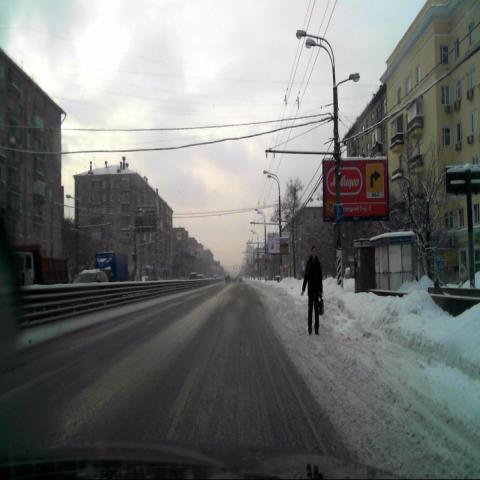6_6: (334, 204, 344, 222)
